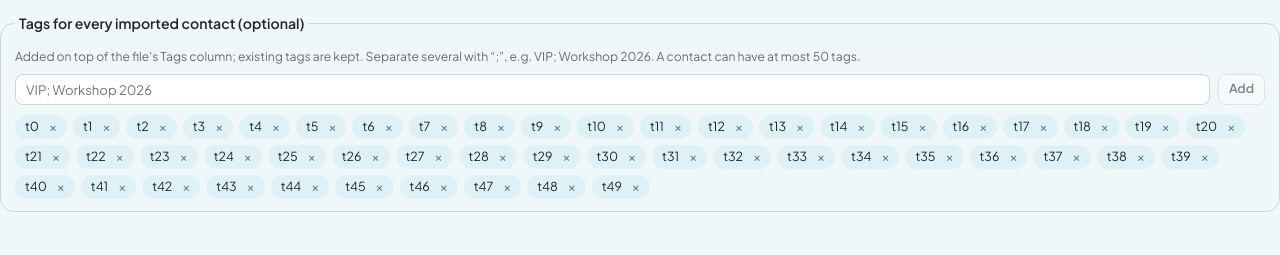
Test case: ImportCommonTags › refuses to go over 50 tags
Type "one more" into the field with test id "import-common-tags-input".
click(612, 90); type("one more")  # box [15, 74, 1210, 105]
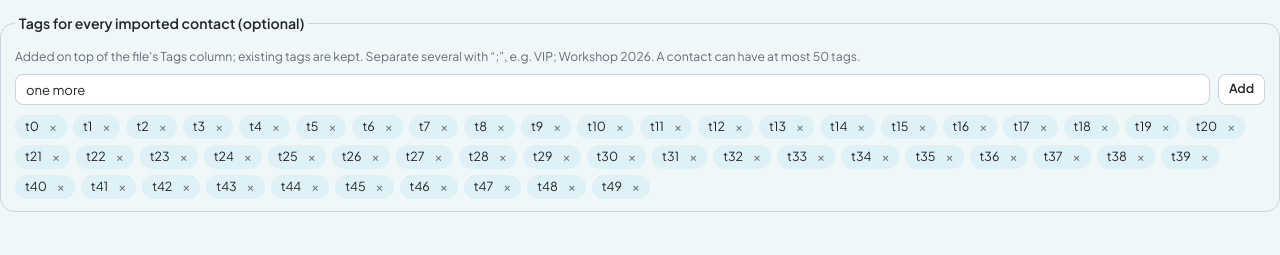
Press Enter in the field with test id "import-common-tags-input", box [15, 74, 1210, 105]
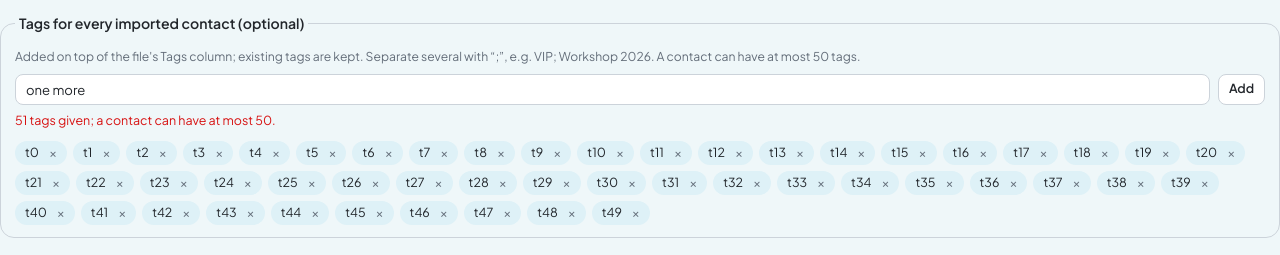
Expected: the message shows "at most 50", [15, 112, 276, 128]
